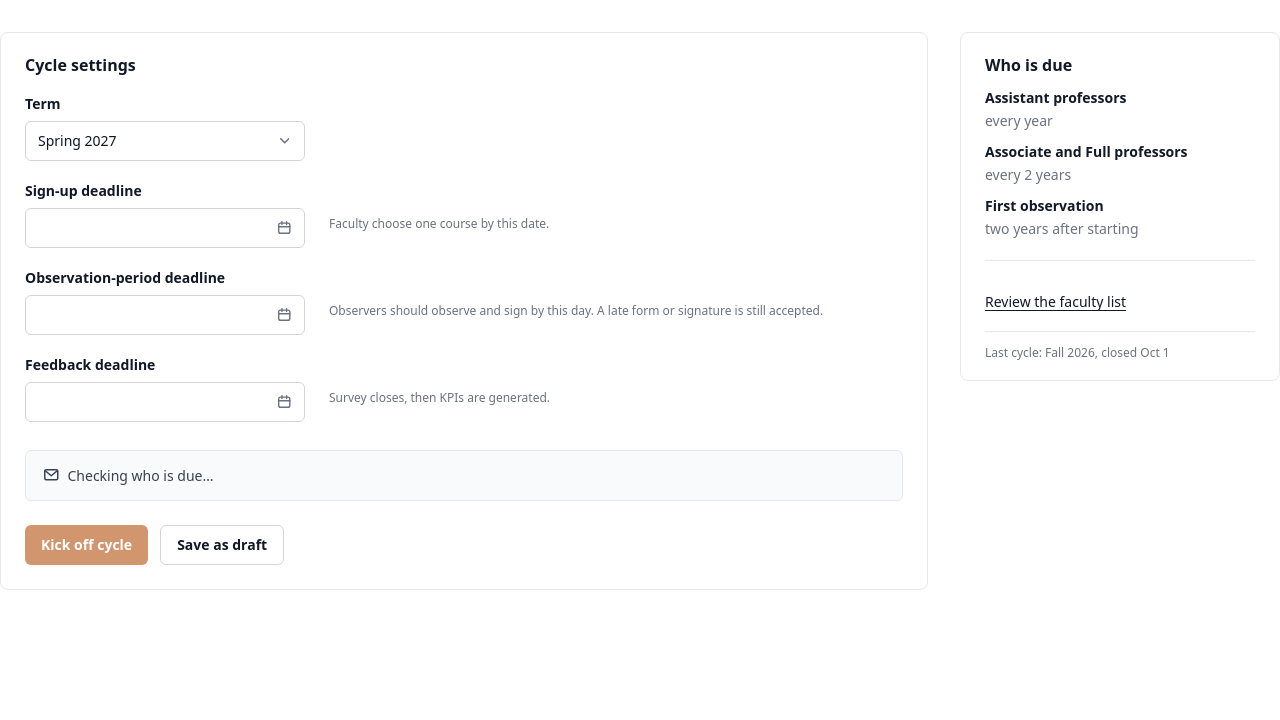
Test case: Cycle page: starting a cycle › shows the server error 400 INVALID_DEADLINES as sent and keeps the input
Expected: the dropdown labelled "Term" is shown, [25,121,305,161]
Type "2027-01-15" into the date field labelled "Sign-up deadline" at (165,228), box [25,208,305,248]
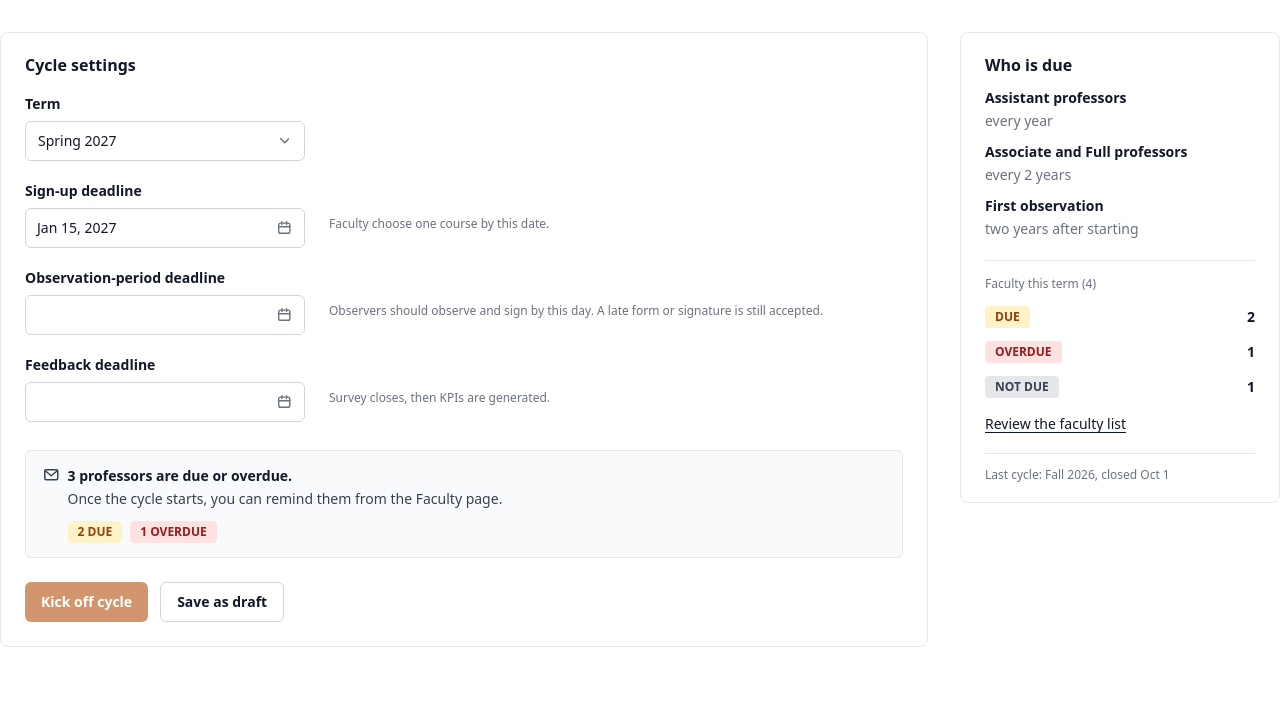
Type "2027-03-01" into the date field labelled "Observation-period deadline" at (165,315), box [25,295,305,335]
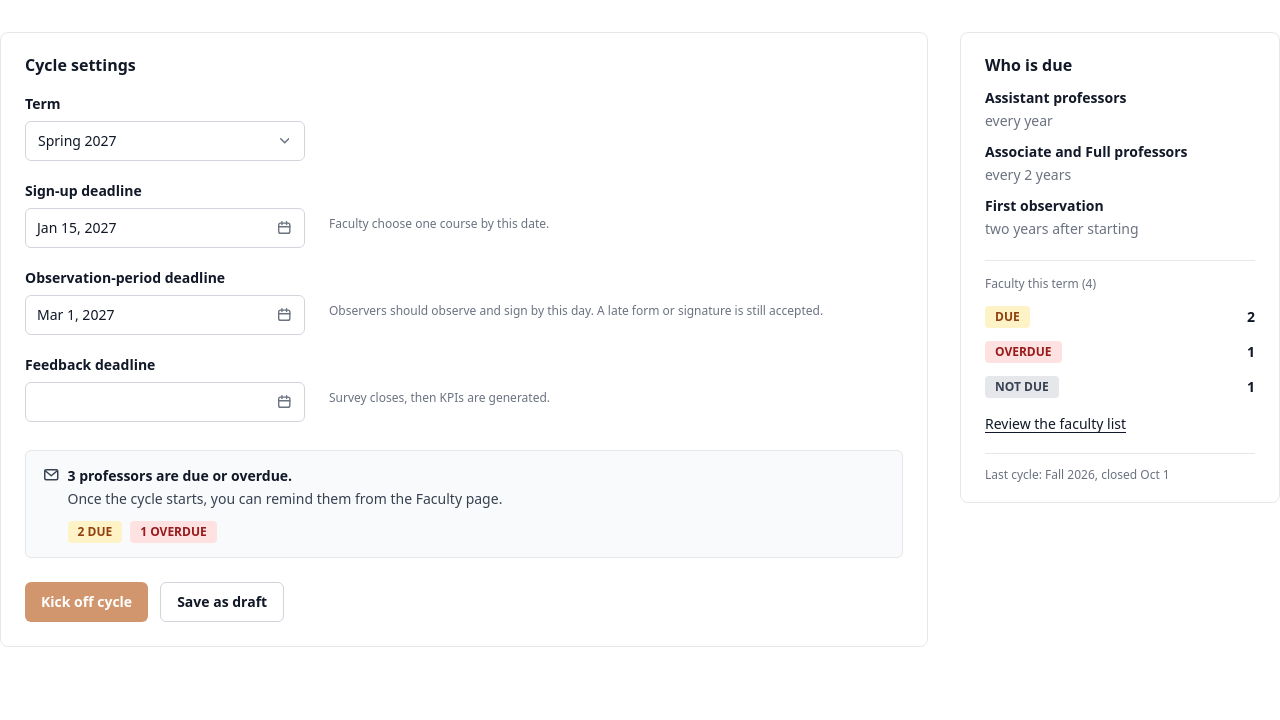
Type "2027-04-01" into the date field labelled "Feedback deadline" at (165,402), box [25,382,305,422]
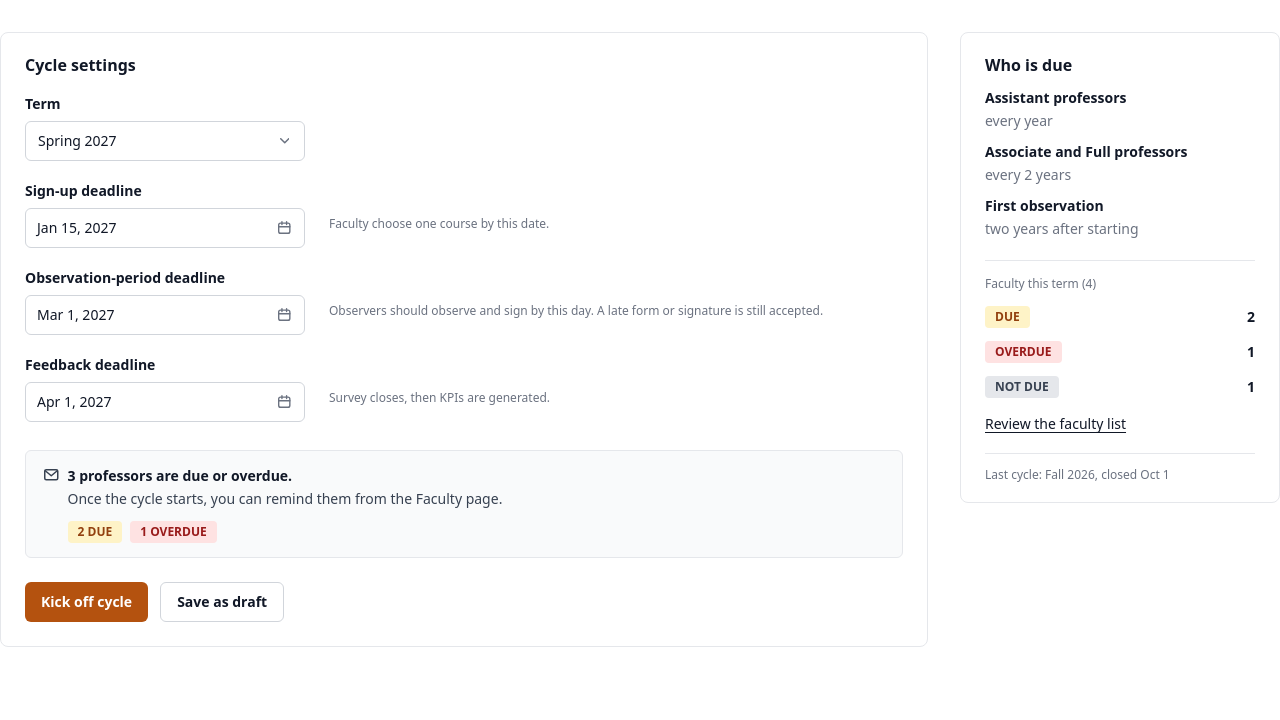
Click the button "Kick off cycle" at (87,602), box [25,582,148,622]
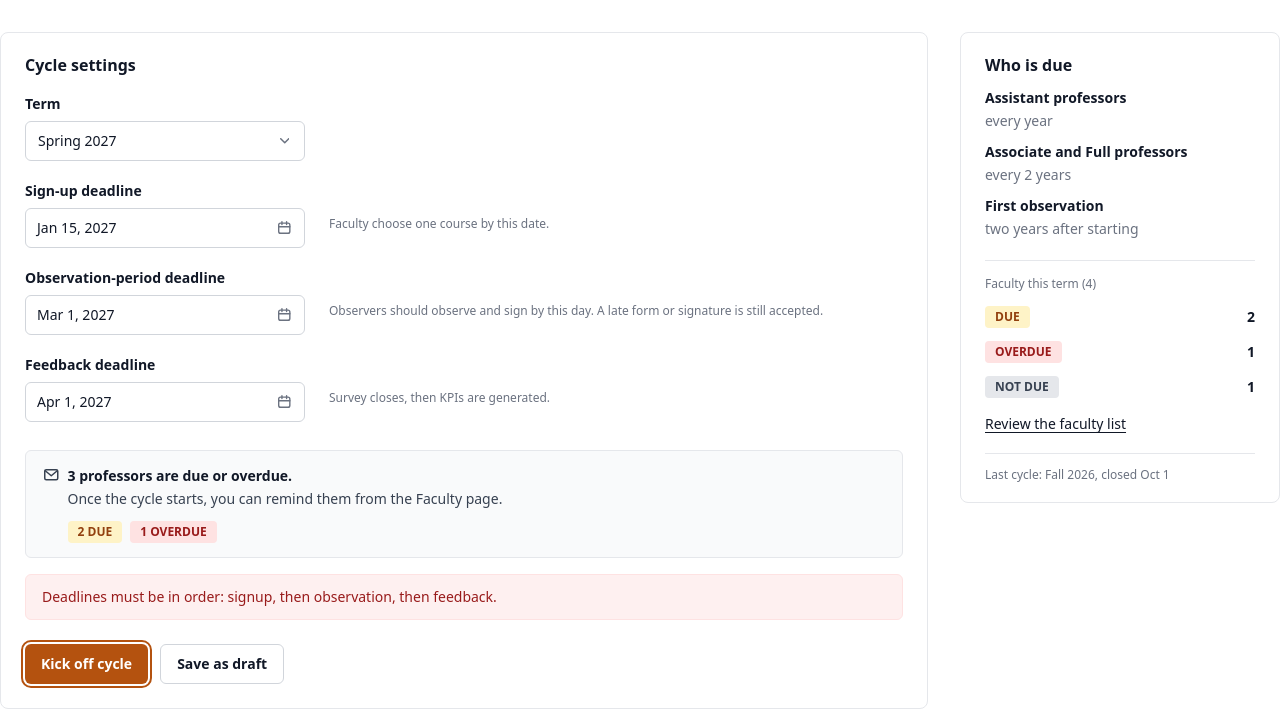
Now the message reads "Deadlines must be in order: signup, then observation, then feedback.", box [42,587,497,606]
